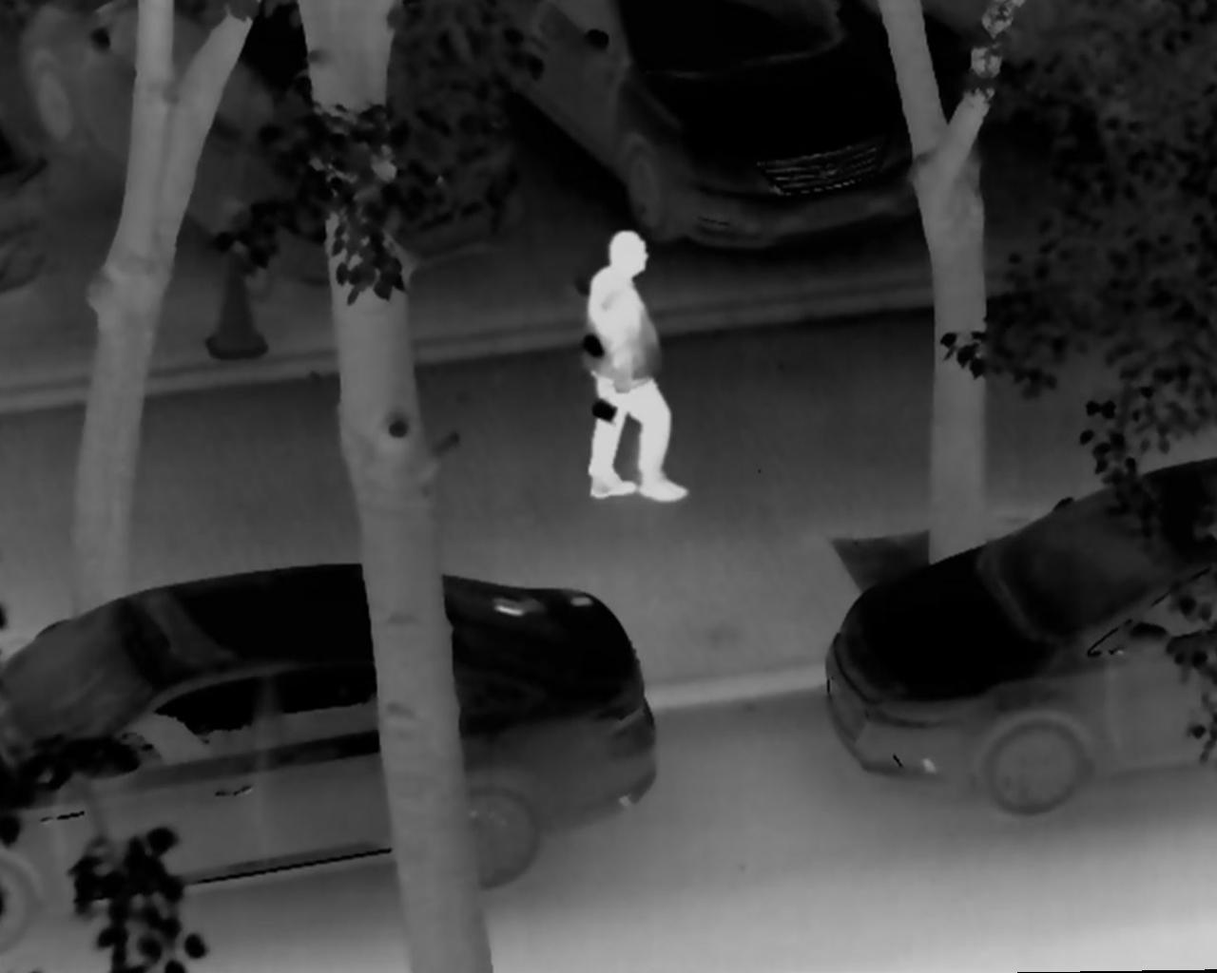person: (578, 230, 689, 507)
